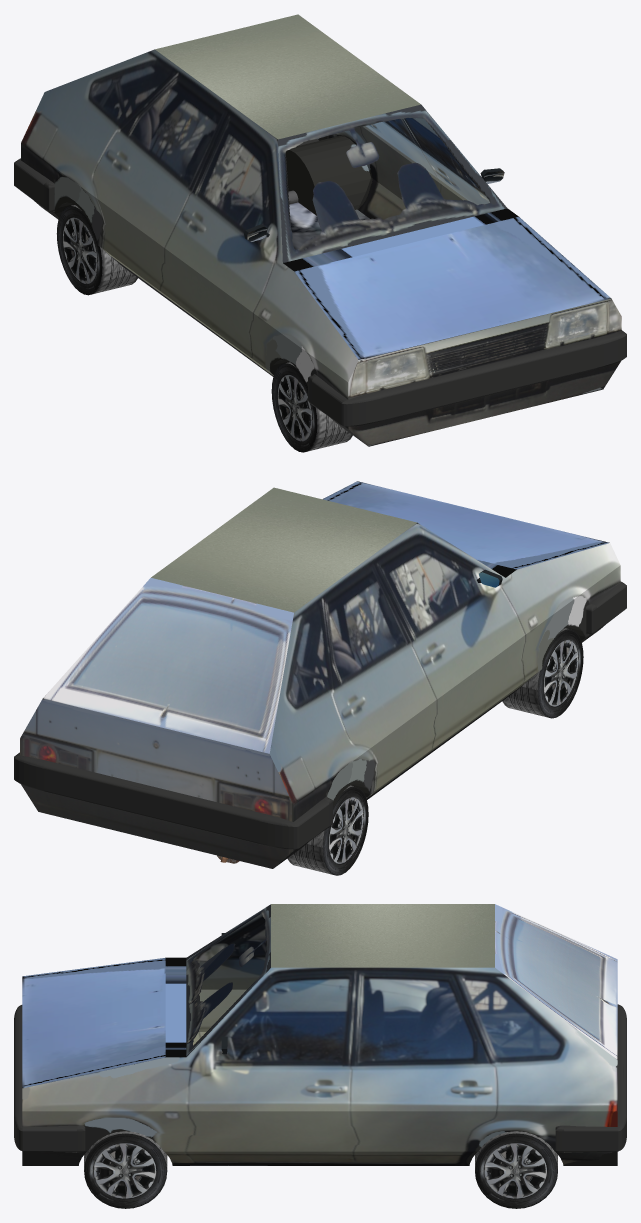
File: ваз.fbx
3 views of the same model, one above another, from view 1: azimuth 30°, elevation 25°; view 2: azimuth 150°, elevation 25°; view 3: azimuth 270°, elevation 25° (orthographic). The views are drawn at different scales.
Visible parts, largest first — view 1: Кузов, Колесо_ЗП, Колесо_ПП; view 2: Кузов, Колесо_ПП, Колесо_ЗП; view 3: Кузов, Колесо_ПЛ, Колесо_ЗЛ.
Part boxes in pixels (left/top/right/bottom): Кузов: left=14, top=14, right=626, bottom=446; Колесо_ЗП: left=56, top=205, right=137, bottom=295; Колесо_ПП: left=271, top=362, right=352, bottom=452; Кузов: left=14, top=481, right=626, bottom=868; Колесо_ПП: left=502, top=628, right=583, bottom=718; Колесо_ЗП: left=287, top=785, right=368, bottom=875; Кузов: left=14, top=904, right=626, bottom=1165; Колесо_ПЛ: left=84, top=1131, right=167, bottom=1208; Колесо_ЗЛ: left=475, top=1131, right=557, bottom=1208.
Bounding box in the file's own units: 360 × 284 × 737.
